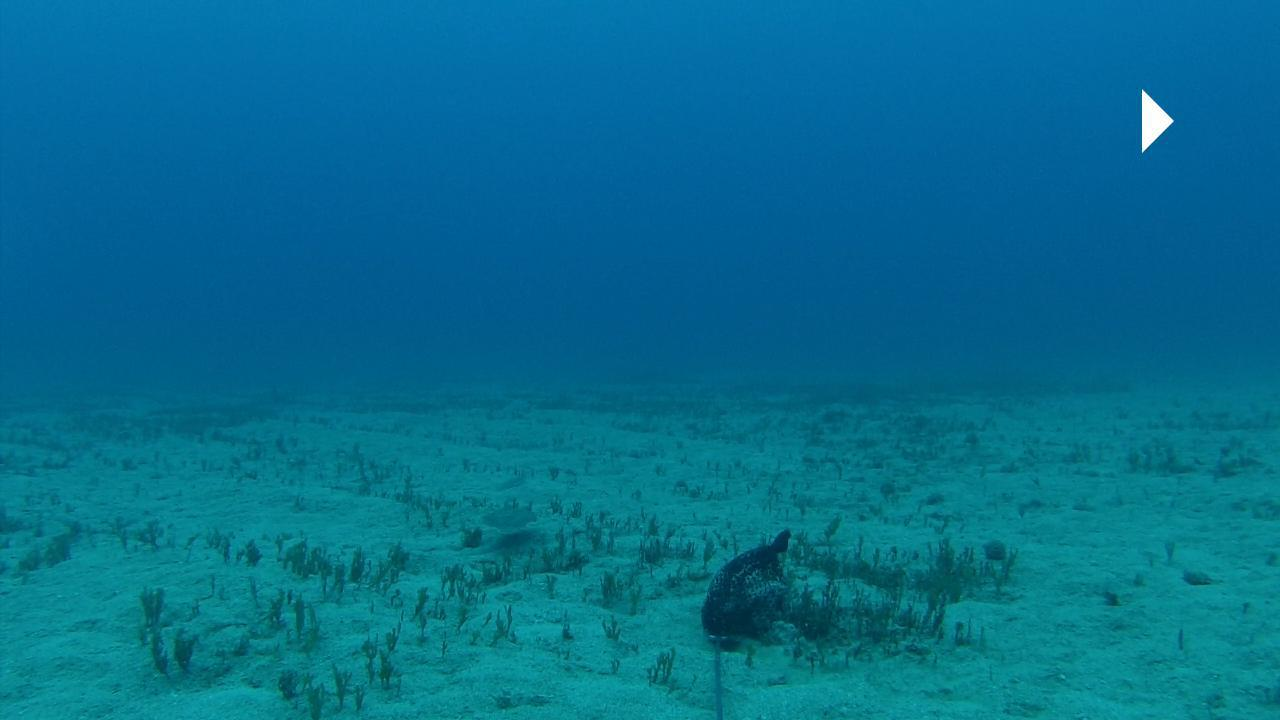bothus: (481, 498, 540, 533)
